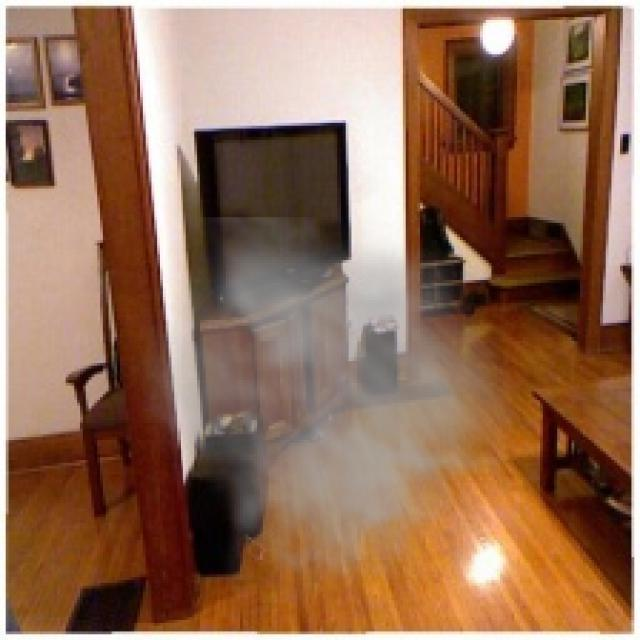Smoke: (122, 217, 534, 623)
